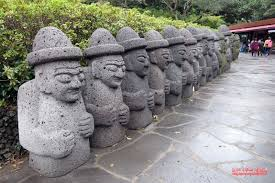Stone Statue: (10, 21, 98, 179), (76, 27, 136, 153), (111, 25, 162, 134)
